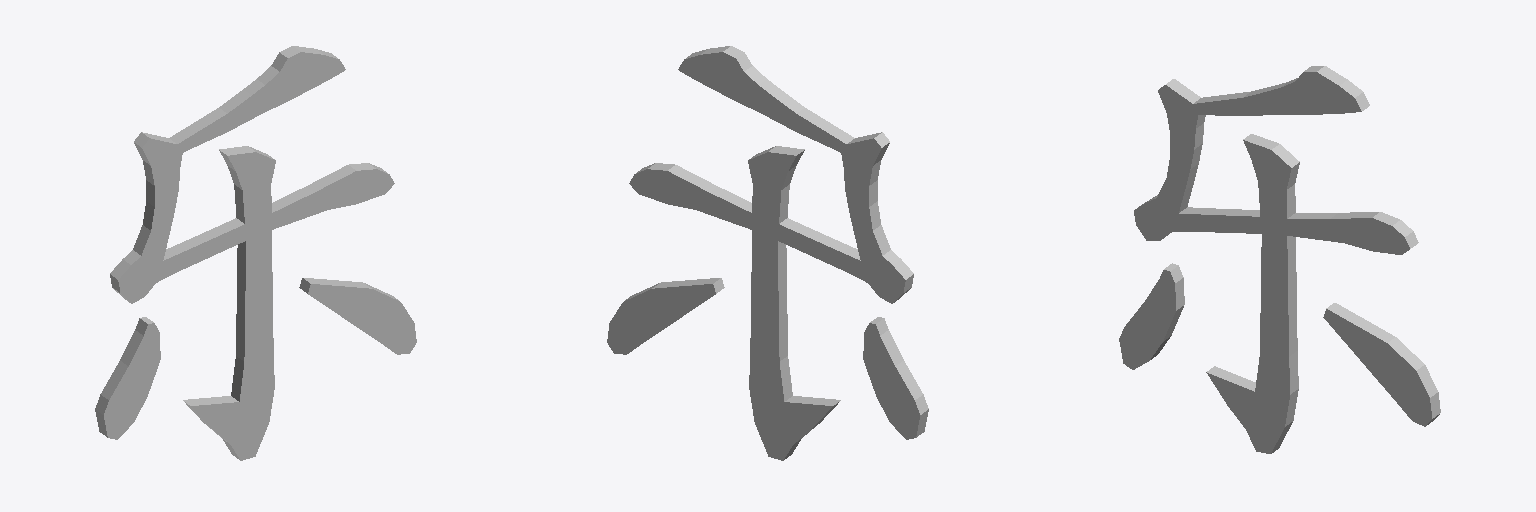
File: leCollectibles.obj
3 views of the same model, side by side, from view 1: azimuth 30°, elevation 25°; view 2: azimuth 150°, elevation 25°; view 3: azimuth 330°, elevation 25° (orthographic).
Visible parts, largest first — view 1: Plane; view 2: Plane; view 3: Plane.
Boxes of the visible parts, x1=… form: Plane: x1=95, y1=46, x2=416, y2=460; Plane: x1=607, y1=46, x2=928, y2=460; Plane: x1=1119, y1=66, x2=1440, y2=453.
Bounding box in the file's own units: 0.846 × 1.02 × 0.04.